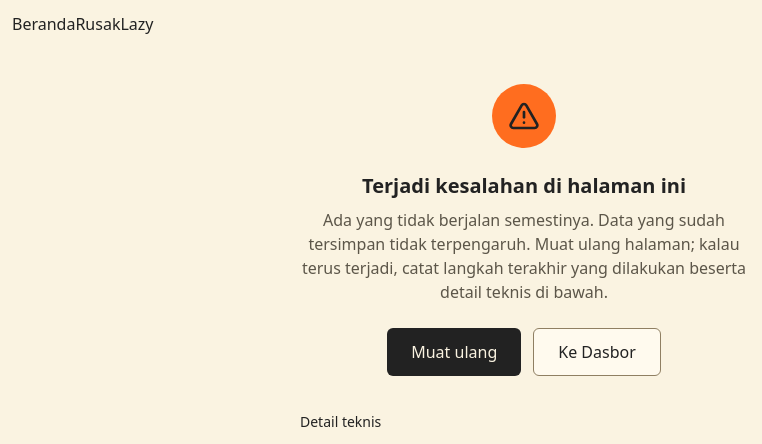
Scenario: boundary rute › halaman yang melempar error menampilkan RouteError, induk tetap ada, dan navigasi menghapus error
The width and height of the screenshot is (762, 444).
Check: the heading "Terjadi kesalahan di halaman ini" is shown, box [362,172,686,200]
Check: the navigation bar named "Menu uji" is shown, box [12,13,154,35]
What coordinates should you click on to do the following:
click the link "Beranda"
I would click on:
 (44, 24)
Its box is [12,13,75,35].
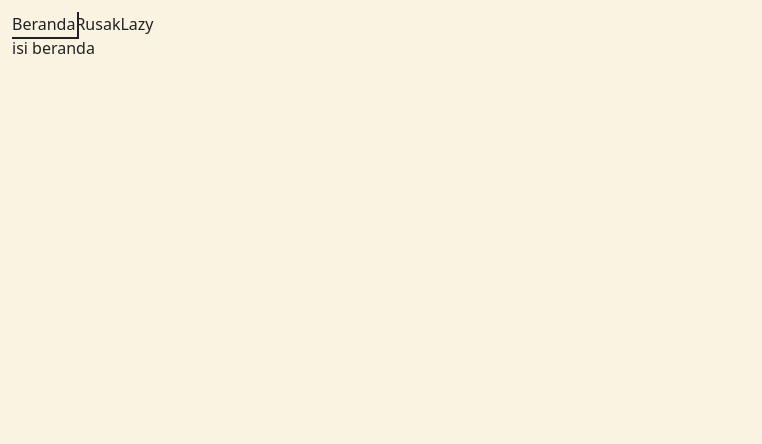
Check: the text "isi beranda" is shown, box [12,37,95,59]
Check: the heading "Terjadi kesalahan di halaman ini" is gone
